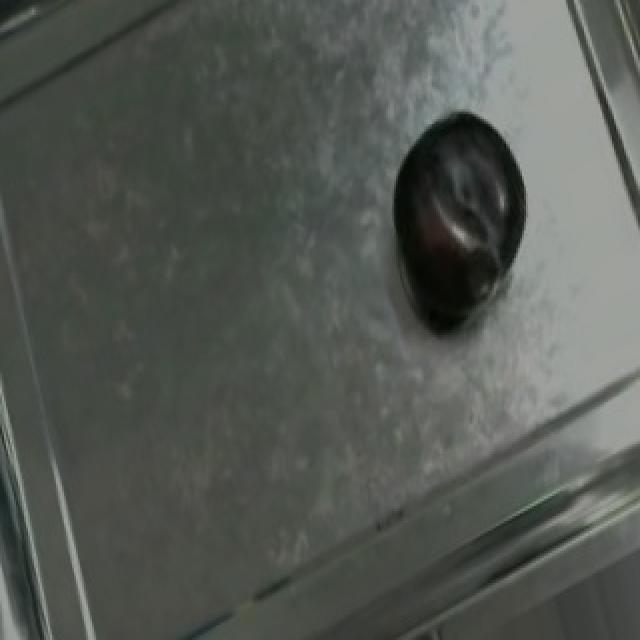Fruit: (372, 92, 546, 315)
